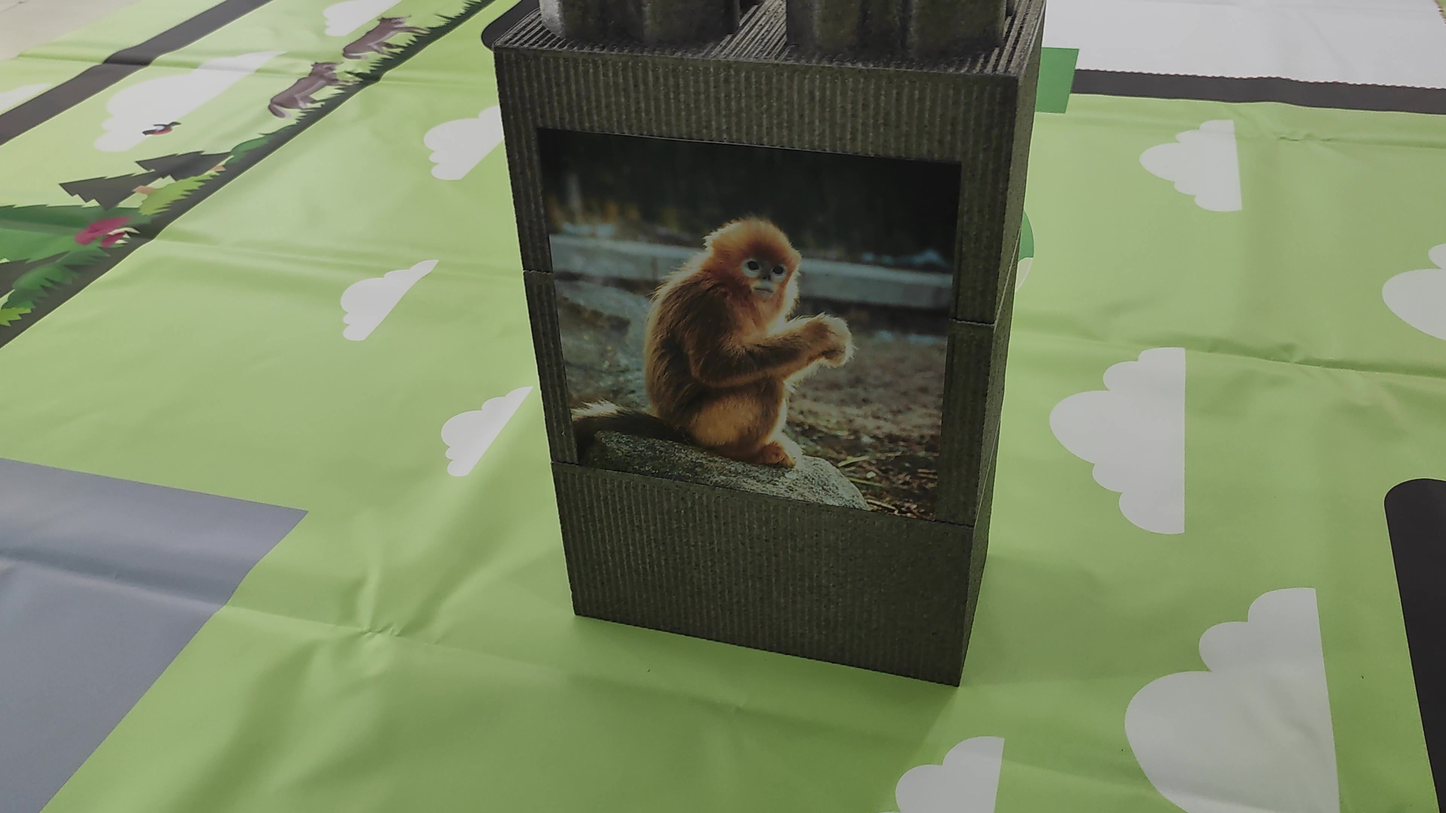monkey: (544, 150, 946, 500)
